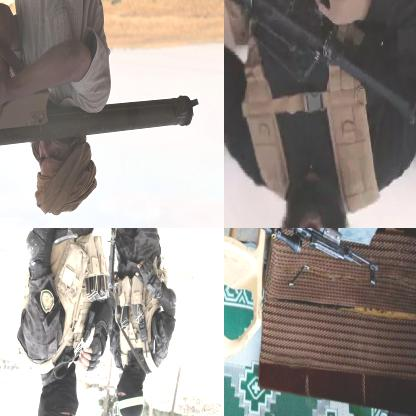rifle: (224, 0, 415, 128), (0, 77, 200, 199), (224, 228, 379, 286)
